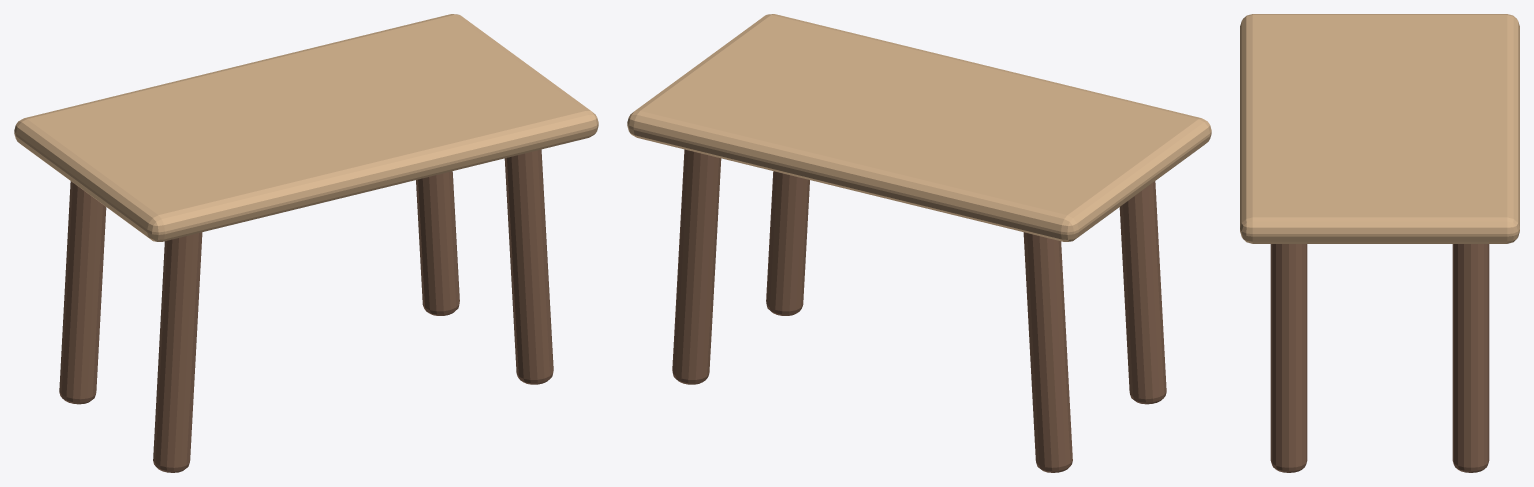
The model's file is ChildFootrest.fbx.
3 views of the same model, side by side, from view 1: azimuth 30°, elevation 25°; view 2: azimuth 150°, elevation 25°; view 3: azimuth 270°, elevation 25° (orthographic). The views are drawn at different scales.
Parts seen in each view (by area): view 1: Child foot support deck, Footrest splayed leg, Footrest splayed leg.002, Footrest splayed leg.001, Footrest splayed leg.003; view 2: Child foot support deck, Footrest splayed leg.001, Footrest splayed leg.003, Footrest splayed leg, Footrest splayed leg.002; view 3: Child foot support deck, Footrest splayed leg.002, Footrest splayed leg.003.
Part boxes in pixels (<box>): Child foot support deck: <box>14,14,598,241</box>; Footrest splayed leg: <box>153,232,202,472</box>; Footrest splayed leg.002: <box>504,149,553,384</box>; Footrest splayed leg.001: <box>59,181,106,404</box>; Footrest splayed leg.003: <box>416,171,459,315</box>; Child foot support deck: <box>627,14,1211,241</box>; Footrest splayed leg.001: <box>1023,232,1072,472</box>; Footrest splayed leg.003: <box>672,149,721,384</box>; Footrest splayed leg: <box>1119,181,1166,404</box>; Footrest splayed leg.002: <box>766,171,809,315</box>; Child foot support deck: <box>1240,14,1519,243</box>; Footrest splayed leg.002: <box>1270,244,1307,472</box>; Footrest splayed leg.003: <box>1452,244,1489,472</box>.
Bounding box in the file's own units: 0.36 × 0.2104 × 0.2.
